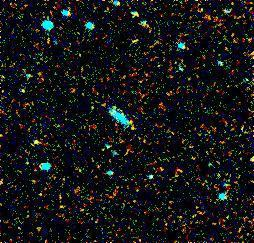star: (119, 109, 149, 139)
